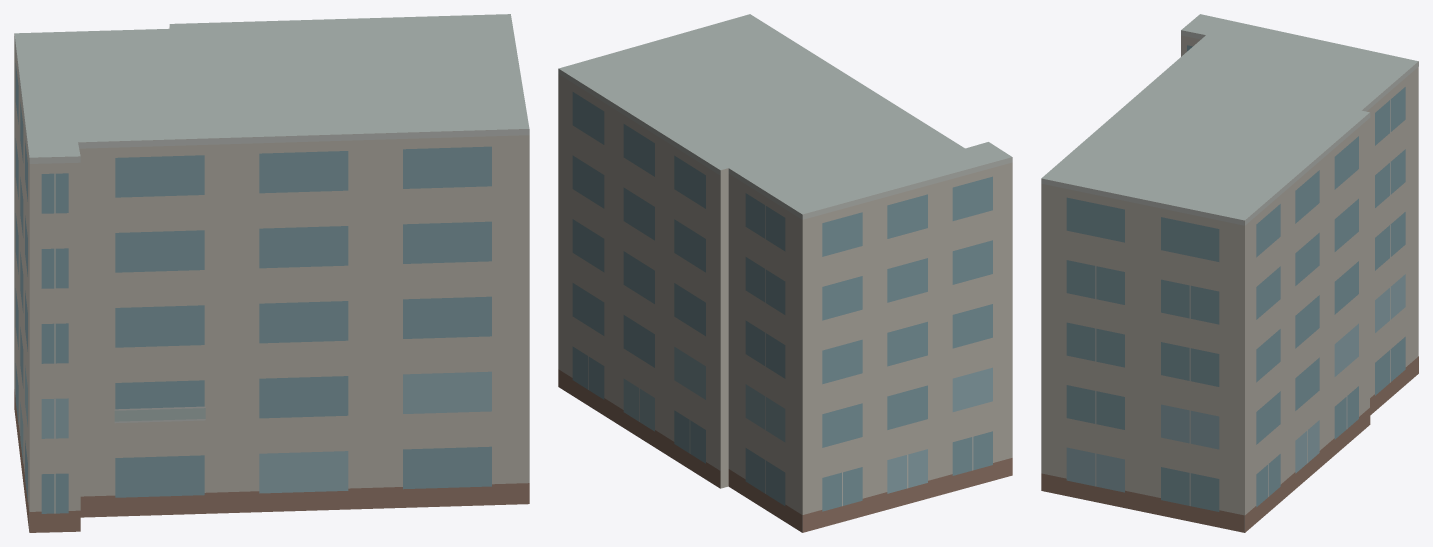
File: survey-upis-32633244.glb
3 views of the same model, side by side, from view 1: azimuth 30°, elevation 25°; view 2: azimuth 150°, elevation 25°; view 3: azimuth 270°, elevation 25° (orthographic). The views are drawn at different scales.
Parts seen in each view (by area): view 1: survey-upis-32633244.tmp; view 2: survey-upis-32633244.tmp; view 3: survey-upis-32633244.tmp.
Boxes of the visible parts, x1,y1,x2,y2 form: survey-upis-32633244.tmp: (14,14,529,532); survey-upis-32633244.tmp: (558,14,1012,532); survey-upis-32633244.tmp: (1041,14,1418,532).
Size of the model in its own units: 20.42 by 14.4 by 15.78.
